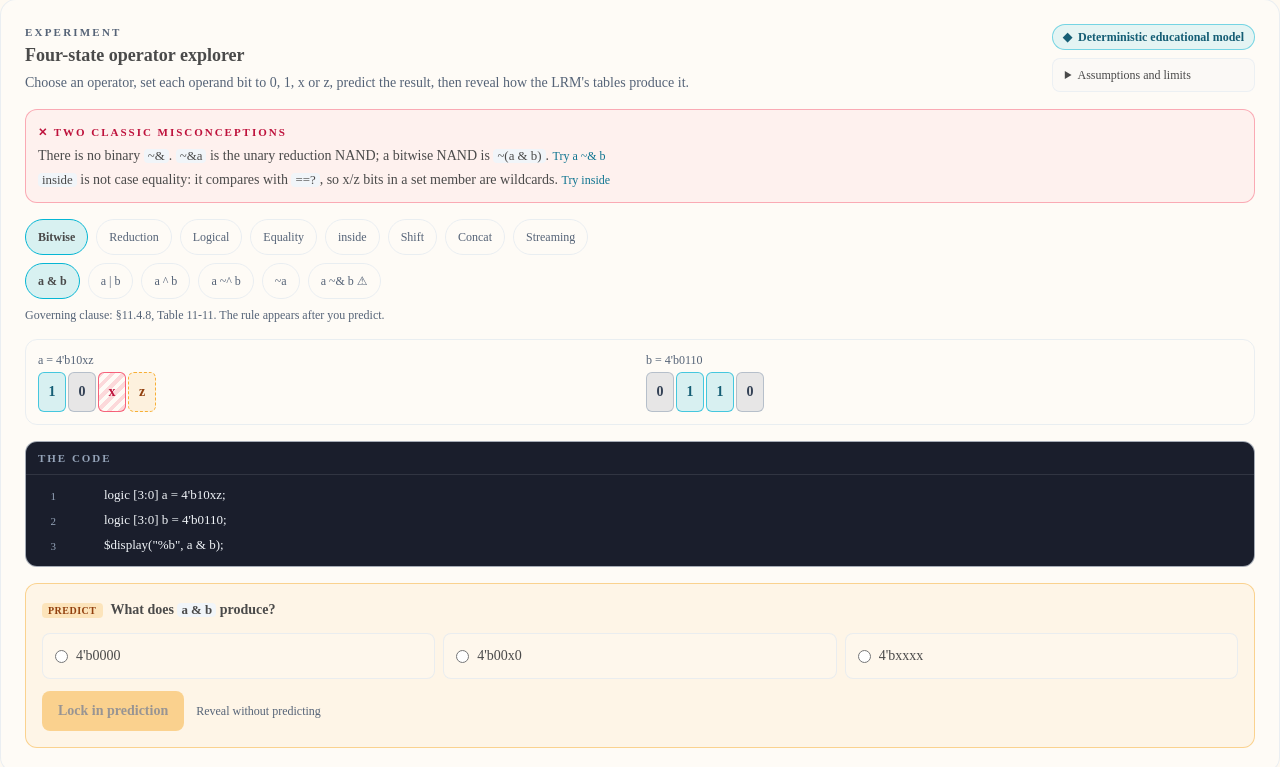
Test: OperatorExplorer › hides the result until a prediction is locked in, then shows the per-bit truth table
Check: the text "$display(\"%b\", a & b);" is shown, box [104,537,224,552]
Check: the text "Bit by bit, using the truth table" is not shown
Click the radio button labelled "4'b00x0" at {"x": 463, "y": 656}, box [456,650,469,663]
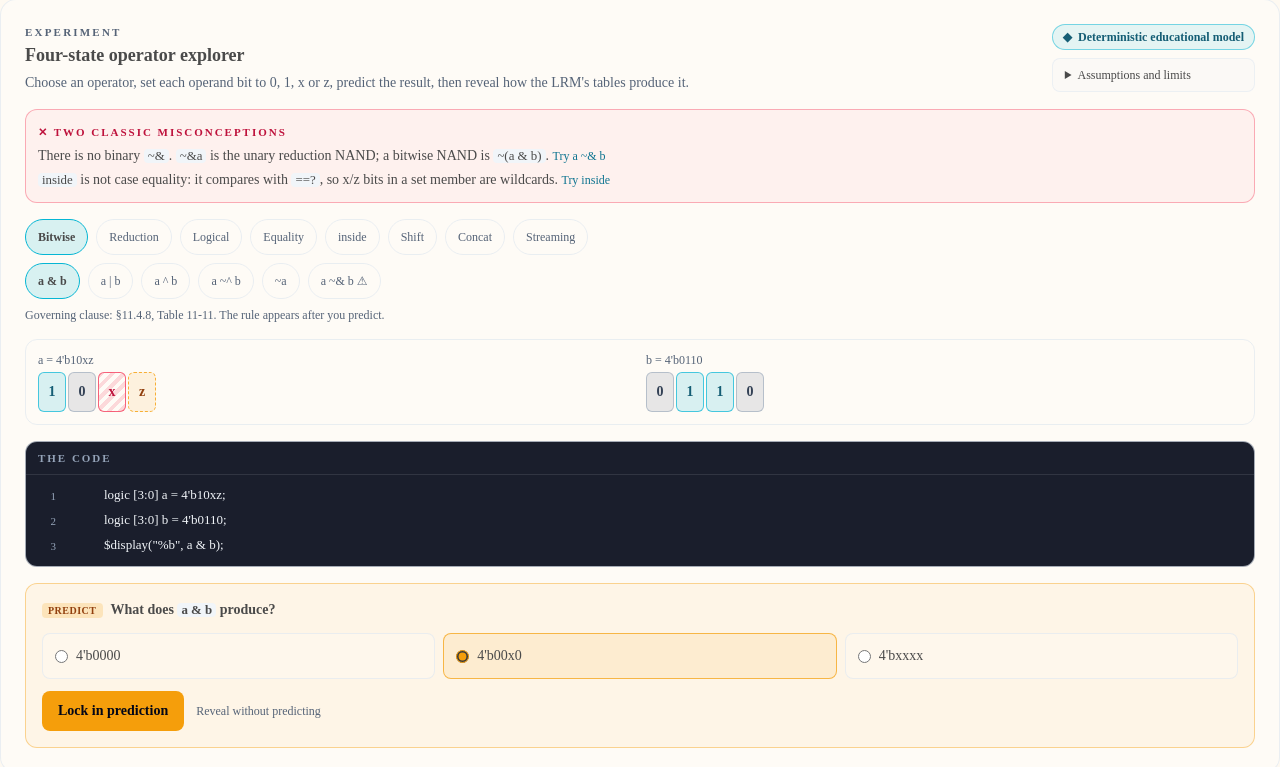
Click the button "Lock in prediction" at {"x": 113, "y": 711}, box [42,691,184,731]
(page scrolled)
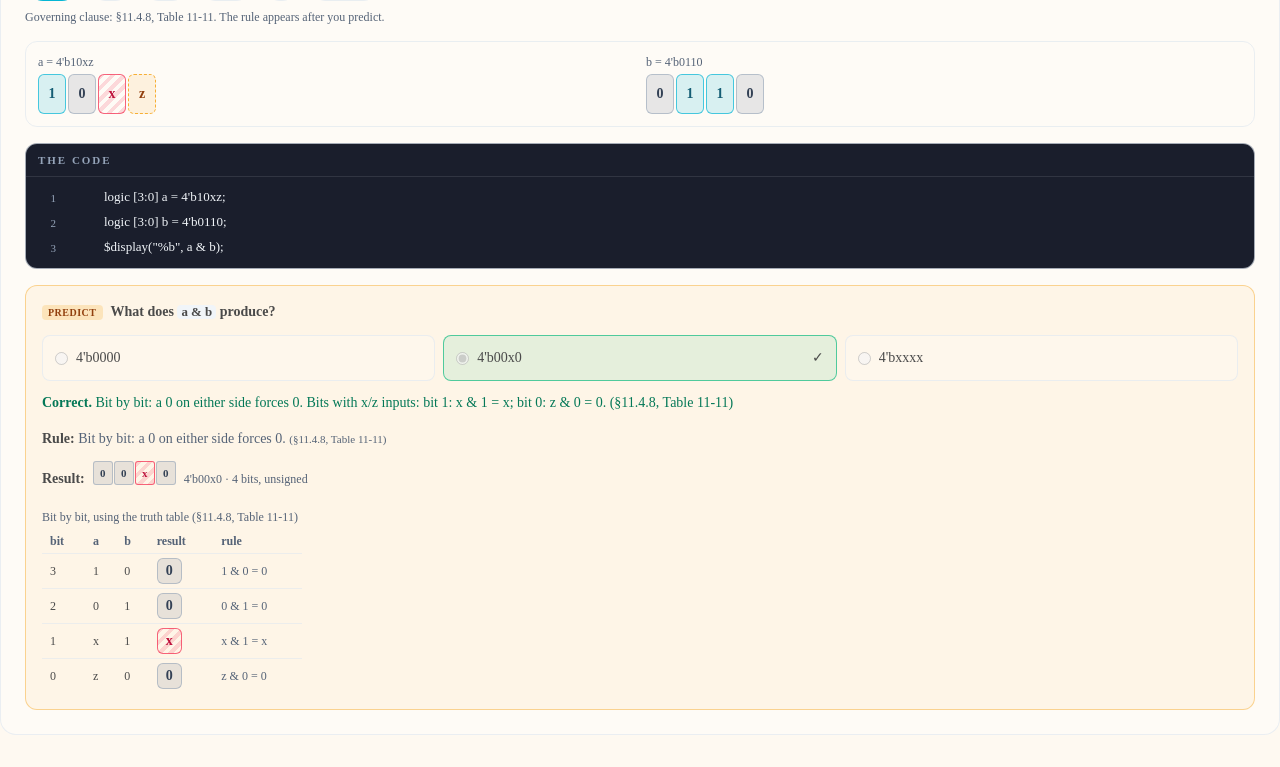
Check: the text "Correct." is shown, box [42,395,95,410]
Check: the text "Bit by bit, using the truth table (§11.4.8, Table 11-11)" is shown, box [42,509,302,525]
Check: the text "z & 0 = 0" is shown, box [213,658,302,693]
